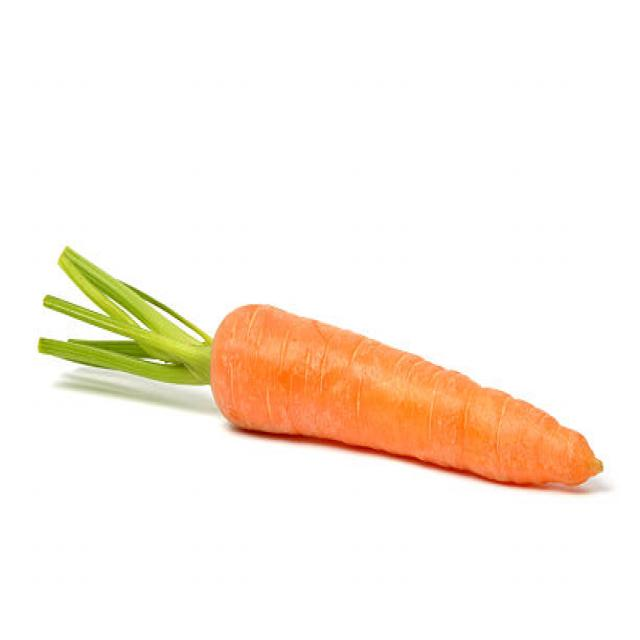carrot: (208, 304, 605, 492)
